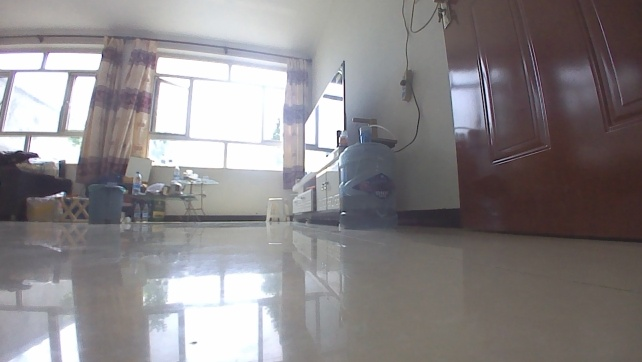TV_stand: (287, 147, 350, 227)
door: (435, 0, 641, 242)
wire: (395, 0, 436, 155)
